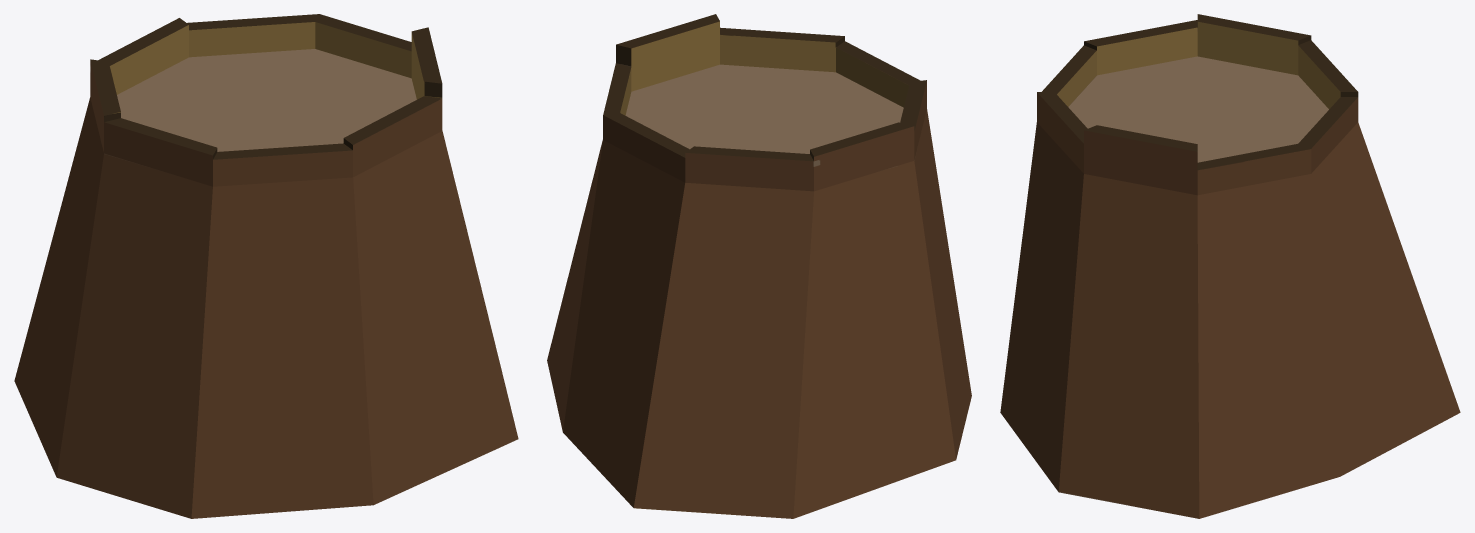
Rendered from TreeStump.fbx.
The picture shows the model from 3 angles, left to right: view 1: azimuth 30°, elevation 25°; view 2: azimuth 150°, elevation 25°; view 3: azimuth 270°, elevation 25°; orthographic projection. The views are drawn at different scales.
Visible parts, largest first — view 1: TreeStump; view 2: TreeStump; view 3: TreeStump.
Part boxes in pixels (<box>): TreeStump: <box>14,14,518,518</box>; TreeStump: <box>547,14,971,518</box>; TreeStump: <box>1000,14,1460,518</box>.
Bounding box in the file's own units: 134 × 104 × 130.
